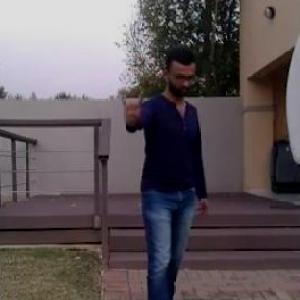takeoff-hand: (116, 86, 148, 128)
